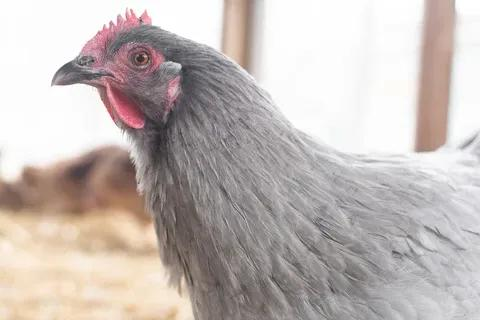AbNormal: (81, 7, 153, 58)
